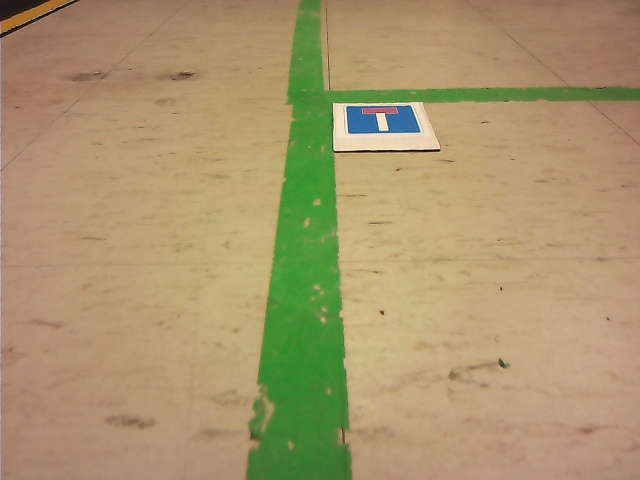DEAD END: (346, 106, 420, 133)
